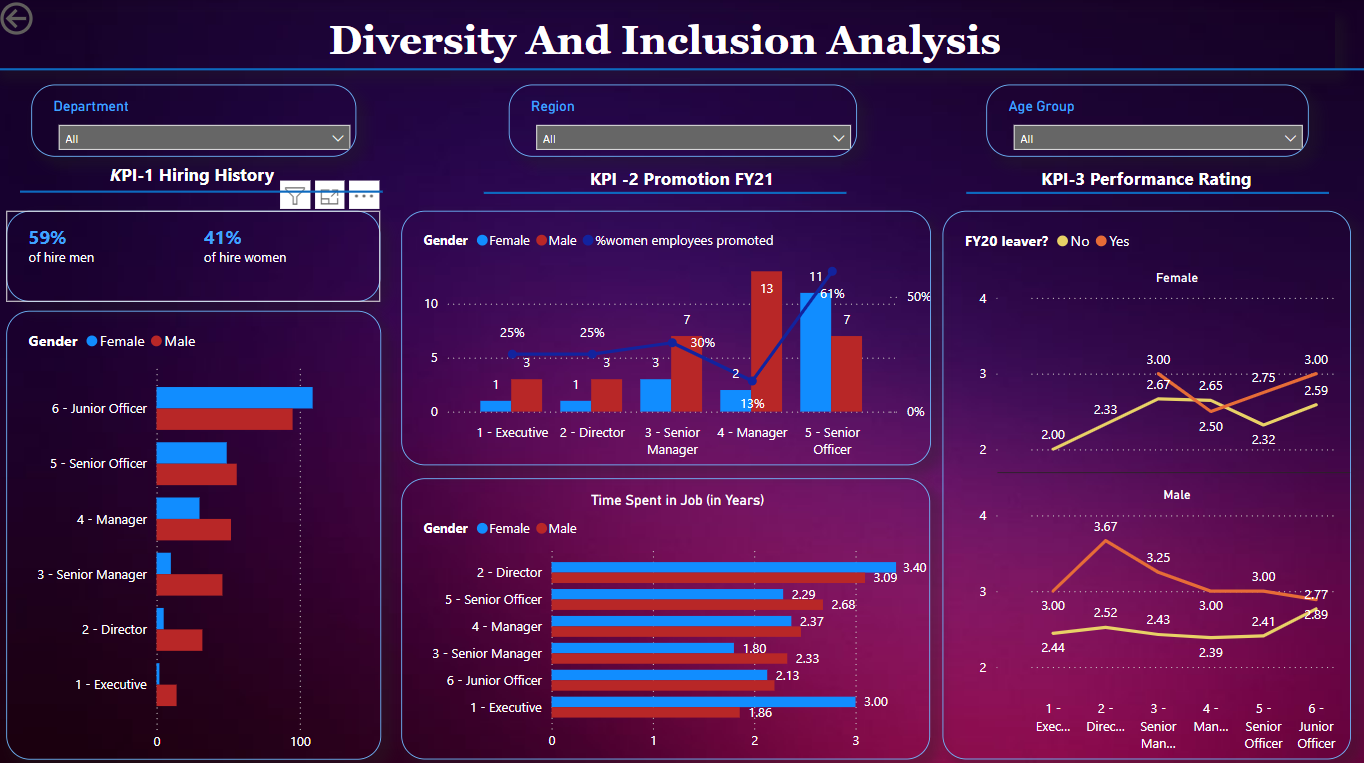

Layout of this report page (visuals, bound fields, positions):
{"tool":"powerbi","page":{"name":"Diversity and Inclusion Analysis1","canvas":[1280,720],"ordinal":0},"visuals":[{"type":"textbox","box":[0,8.1,1280.2,59.3],"z":0},{"type":"multiRowCard","fields":{"Values":["Pharma Group AG.#hire men","Pharma Group AG.#hire women"]},"box":[10.5,195.3,347.7,64],"z":1000},{"type":"actionButton","box":[0,0,100,40],"z":2000},{"type":"clusteredBarChart","fields":{"Series":["Pharma Group AG.Gender"],"Category":["Pharma Group AG.Job Level after FY20 promotions"],"Y":["CountNonNull(Pharma Group AG.Employee ID)"]},"box":[10.5,270.9,348.8,438.4],"z":3000},{"type":"slicer","title":"Department","fields":{"Values":["Pharma Group AG.Department @01.07.2020"]},"box":[31.4,68.6,302.3,67.4],"z":4000},{"type":"slicer","title":"Region","fields":{"Values":["Pharma Group AG.Nationality 1"]},"box":[476.7,68.6,324.4,67.4],"z":5000},{"type":"slicer","title":"Age Group","fields":{"Values":["Pharma Group AG.Age group"]},"box":[920.9,67.4,300,67.4],"z":6000},{"type":"textbox","box":[34.9,147.7,298.8,37.2],"z":7000},{"type":"lineClusteredColumnComboChart","fields":{"Category":["Pharma Group AG.Job Level after FY21 promotions"],"Y2":["Pharma Group AG.%women employees promoted"],"Series":["Pharma Group AG.Gender"],"Y":["CountNonNull(Pharma Group AG.Employee ID)"]},"box":[368.6,195.3,501.2,254.7],"z":8000},{"type":"textbox","box":[491.9,148.8,296.5,37.2],"z":9000},{"type":"clusteredBarChart","title":"Time Spent in Job (in Years)","fields":{"Series":["Pharma Group AG.Gender"],"Y":["Avg(Pharma Group AG.Time in Job Level @01.07.2020)"],"Category":["Pharma Group AG.Job Level after FY20 promotions"]},"box":[368.6,461.6,501.2,247.7],"z":10000},{"type":"lineChart","fields":{"Category":["Pharma Group AG.Job Level after FY20 promotions"],"Series":["Pharma Group AG.FY20 leaver?"],"Y":["Avg(Pharma Group AG.FY19 Performance Rating)"],"Rows":["Pharma Group AG.Gender"]},"box":[877.9,195.3,387.2,514],"z":11000},{"type":"textbox","box":[922.1,151.2,300,34.9],"z":12000},{"type":"shape","box":[0,40.7,1280.2,27.9],"z":13000},{"type":"shape","box":[33.7,164,302.3,29.1],"z":14000},{"type":"shape","box":[477.9,164,324.4,31.4],"z":15000},{"type":"shape","box":[920.9,165.1,301.2,30.2],"z":16000}]}

Visuals, with their boxes in screenshot pixels (x1, y1, x2, y2), scaled from the page's 1280x720 canvas onto the 1364x763 screenshot:
textbox: (x1=0, y1=9, x2=1363, y2=71)
multiRowCard - Pharma Group AG.#hire men x Pharma Group AG.#hire women: (x1=11, y1=207, x2=382, y2=275)
actionButton: (x1=0, y1=0, x2=107, y2=42)
clusteredBarChart - Pharma Group AG.Gender x Pharma Group AG.Job Level after FY20 promotions: (x1=11, y1=287, x2=383, y2=752)
"Department" slicer: (x1=33, y1=73, x2=356, y2=144)
"Region" slicer: (x1=508, y1=73, x2=854, y2=144)
"Age Group" slicer: (x1=981, y1=71, x2=1301, y2=143)
textbox: (x1=37, y1=157, x2=356, y2=196)
lineClusteredColumnComboChart - Pharma Group AG.Job Level after FY21 promotions x Pharma Group AG.%women employees promoted: (x1=393, y1=207, x2=927, y2=477)
textbox: (x1=524, y1=158, x2=840, y2=197)
"Time Spent in Job (in Years)" clusteredBarChart: (x1=393, y1=489, x2=927, y2=752)
lineChart - Pharma Group AG.Job Level after FY20 promotions x Pharma Group AG.FY20 leaver?: (x1=936, y1=207, x2=1348, y2=752)
textbox: (x1=983, y1=160, x2=1302, y2=197)
shape: (x1=0, y1=43, x2=1363, y2=73)
shape: (x1=36, y1=174, x2=358, y2=205)
shape: (x1=509, y1=174, x2=855, y2=207)
shape: (x1=981, y1=175, x2=1302, y2=207)
